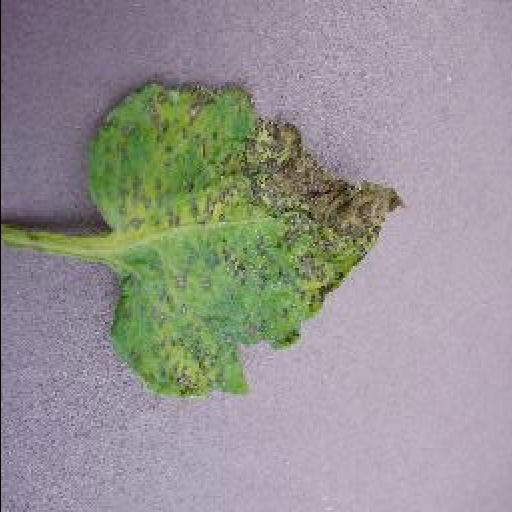disease_tomato: (88, 82, 406, 402)
